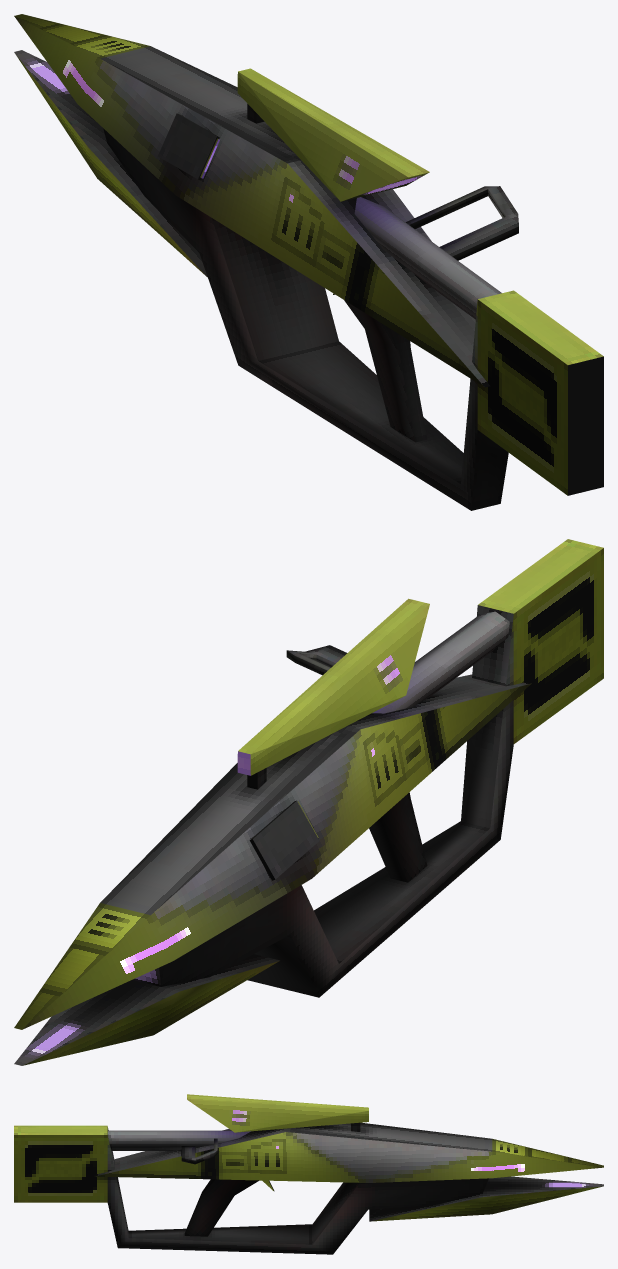
The picture shows the model from 3 angles, top to bottom: view 1: azimuth 30°, elevation 25°; view 2: azimuth 150°, elevation 25°; view 3: azimuth 270°, elevation 25°; orthographic projection. The views are drawn at different scales.
Visible parts, largest first — view 1: sniper.001; view 2: sniper.001; view 3: sniper.001.
Part boxes in pixels (x1,y1,x2,y2): sniper.001: [14, 14, 603, 510]; sniper.001: [14, 539, 603, 1065]; sniper.001: [14, 1094, 603, 1254].
Bounding box in the file's own units: 0.3128 × 0.4848 × 1.76.
1 material, 1 textured.
